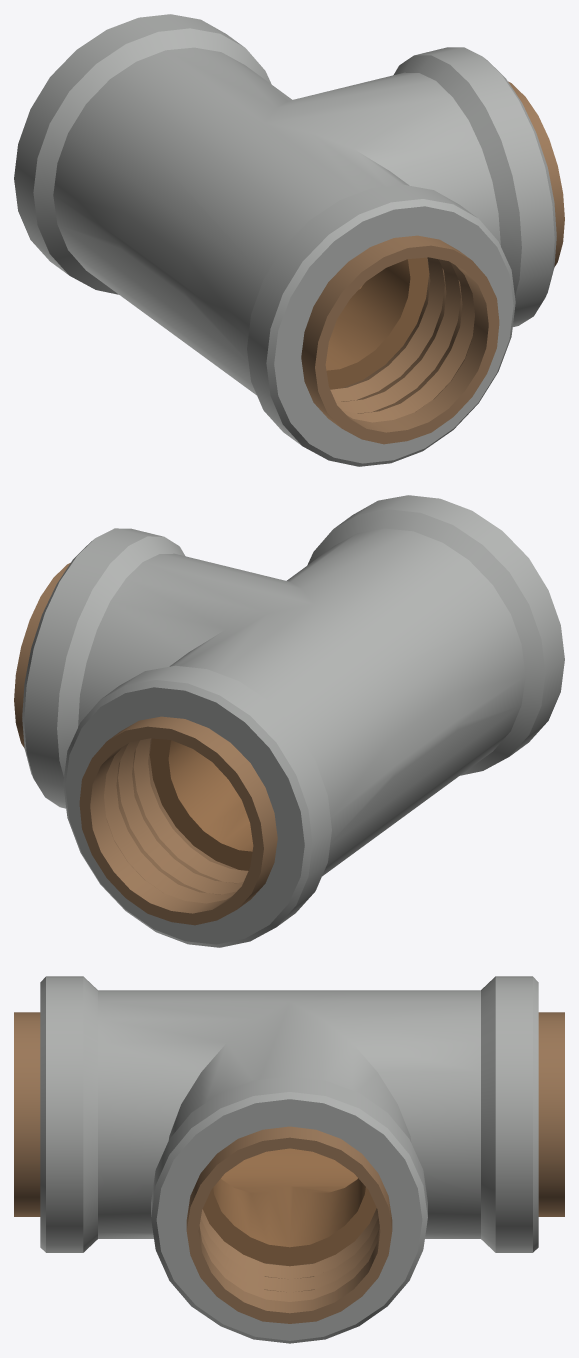
The model's file is pipes_supply__water_heater__93aaca4c.glb.
The picture shows the model from 3 angles, top to bottom: view 1: azimuth 30°, elevation 25°; view 2: azimuth 150°, elevation 25°; view 3: azimuth 270°, elevation 25°; orthographic projection. The views are drawn at different scales.
Visible parts, largest first — view 1: fit_tee_pipe_supply_cold_wh_hybrid__galvanized.901; view 2: fit_tee_pipe_supply_cold_wh_hybrid__galvanized.901; view 3: fit_tee_pipe_supply_cold_wh_hybrid__galvanized.901.
Boxes of the visible parts, left/top/right/bottom form: fit_tee_pipe_supply_cold_wh_hybrid__galvanized.901: left=14, top=14, right=564, bottom=466; fit_tee_pipe_supply_cold_wh_hybrid__galvanized.901: left=14, top=495, right=564, bottom=947; fit_tee_pipe_supply_cold_wh_hybrid__galvanized.901: left=14, top=976, right=564, bottom=1343.
Size of the model in its own units: 0.0553 by 0.0371 by 0.0736.
